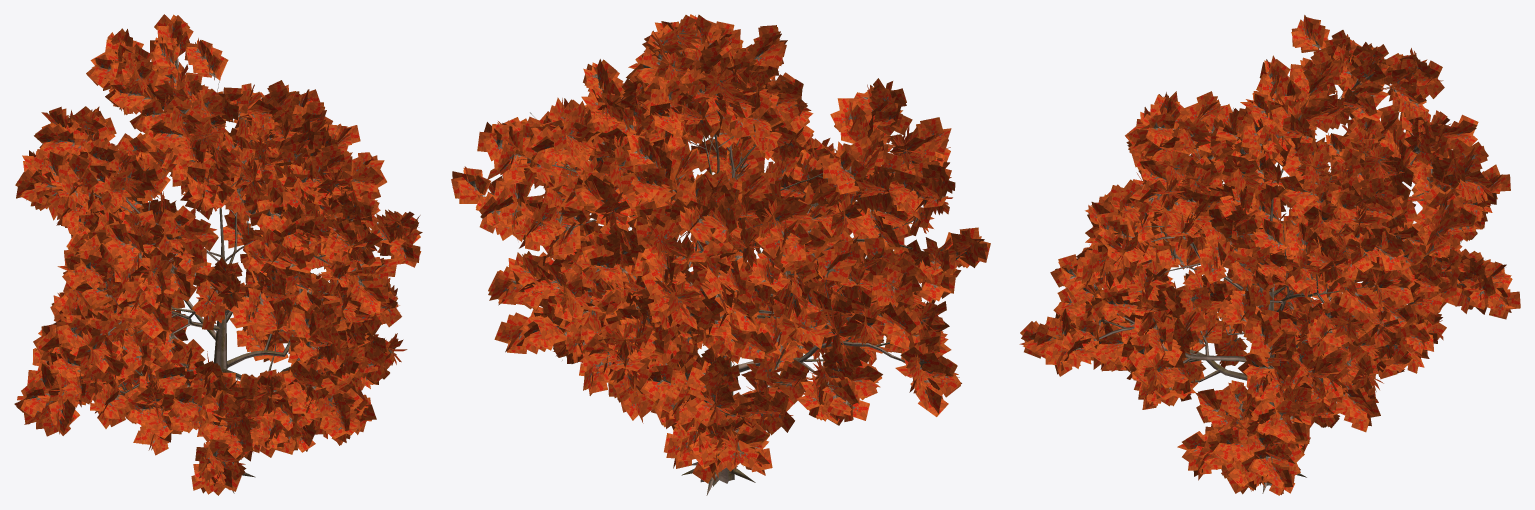
The model's file is maple-fall.gltf.
3 views of the same model, side by side, from view 1: azimuth 30°, elevation 25°; view 2: azimuth 150°, elevation 25°; view 3: azimuth 270°, elevation 25° (orthographic). The views are drawn at different scales.
Visible parts, largest first — view 1: Sugar maple Fall; view 2: Sugar maple Fall; view 3: Sugar maple Fall.
Part boxes in pixels (bbox=[...]): Sugar maple Fall: bbox=[14, 14, 422, 495]; Sugar maple Fall: bbox=[451, 14, 990, 495]; Sugar maple Fall: bbox=[1019, 15, 1520, 495].
Bounding box in the file's own units: 933 × 945 × 983.
2 materials, 2 textured.
